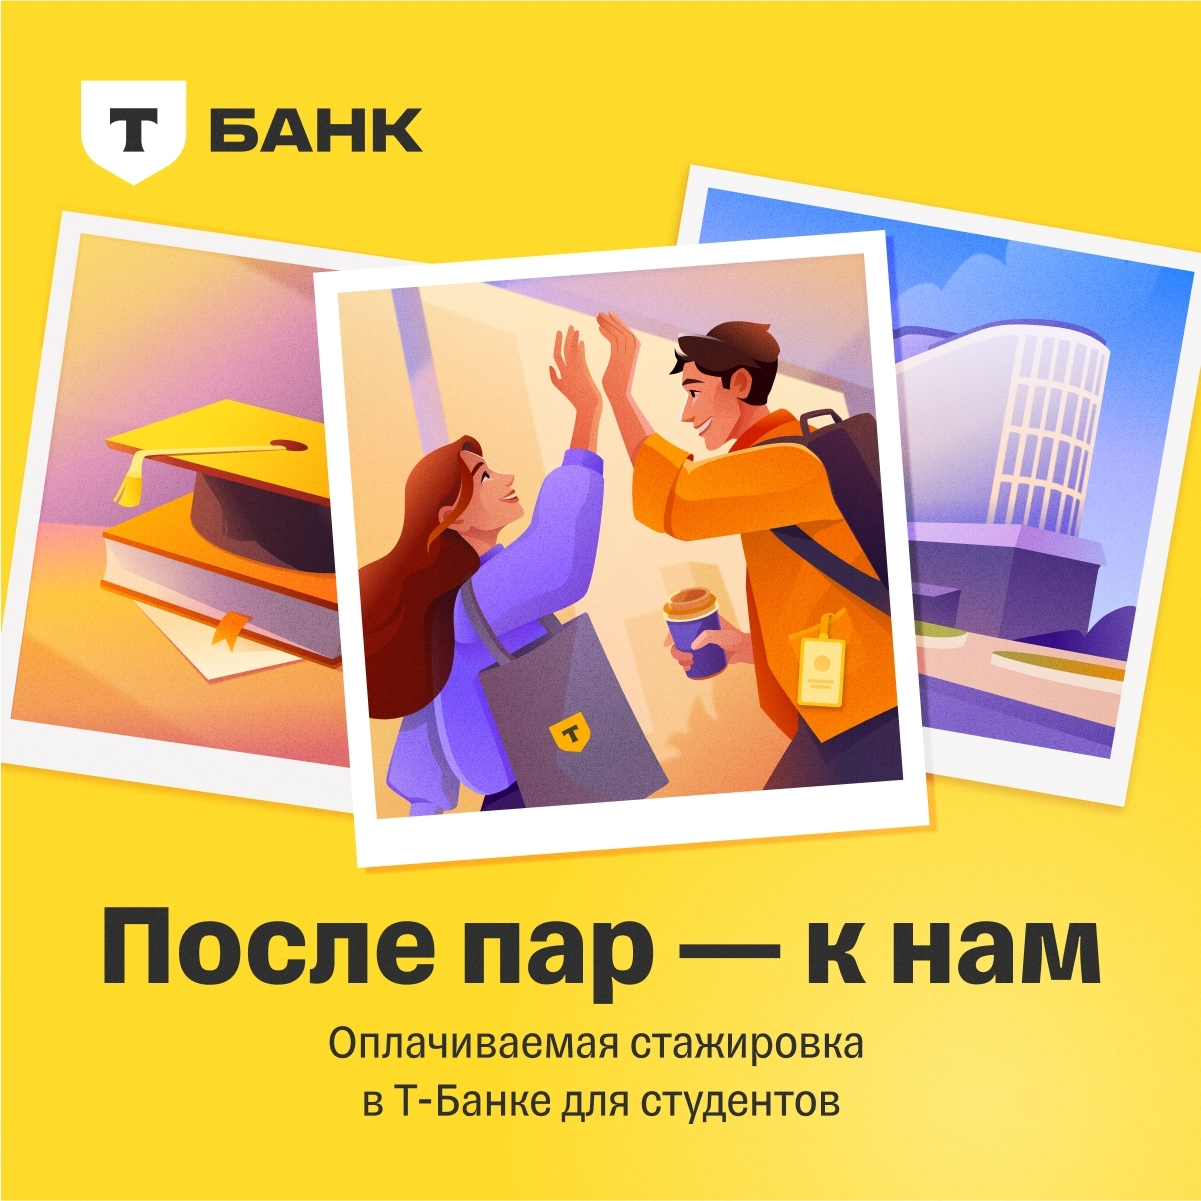TBank: (79, 81, 187, 187)
